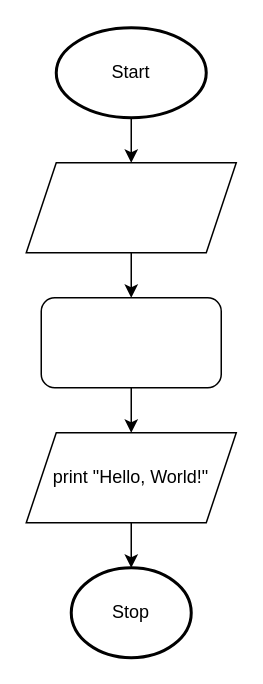
This 263x684 diagram has some shape labels left out. Here are the shapes that lost their labels. From the top down, the box of each, then its label:
(25, 161, 236, 253): get logLength
(40, 296, 221, 388): truckCapacity = (1100 / 22) / logLength
